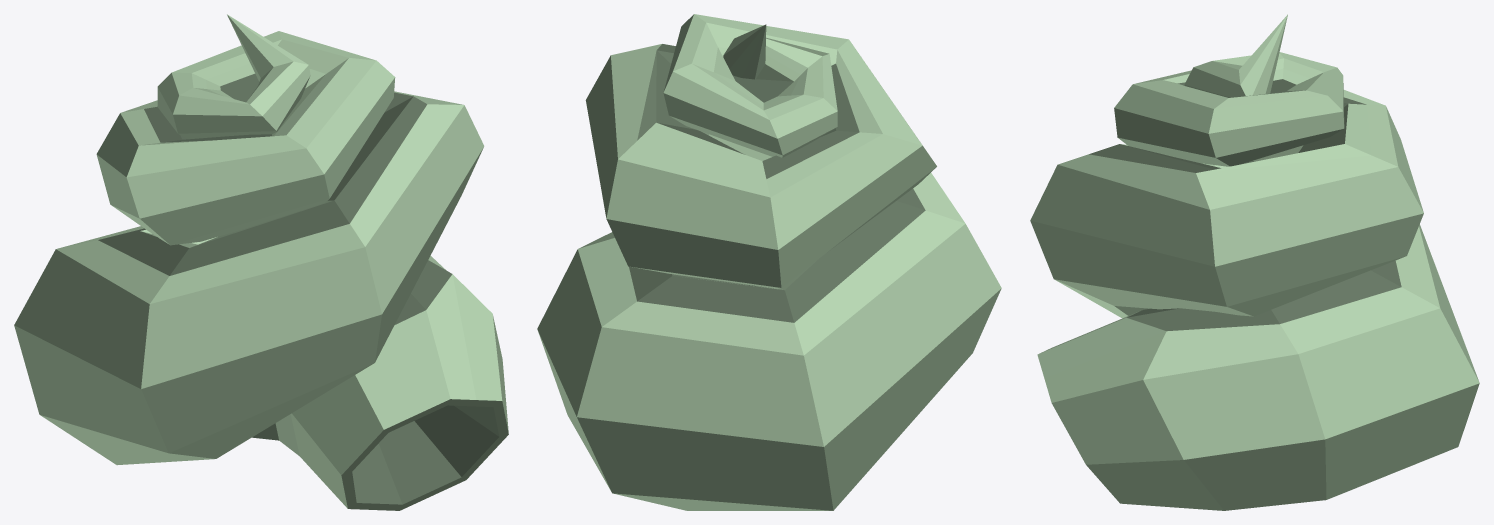
File: Hermit.glb
The picture shows the model from 3 angles, left to right: view 1: azimuth 30°, elevation 25°; view 2: azimuth 150°, elevation 25°; view 3: azimuth 270°, elevation 25°; orthographic projection. The views are drawn at different scales.
Visible parts, largest first — view 1: Hermit; view 2: Hermit; view 3: Hermit.
Boxes of the visible parts, x1,y1,x2,y2 form: Hermit: [14, 14, 508, 510]; Hermit: [537, 14, 1001, 510]; Hermit: [1030, 14, 1479, 510].
Bounding box in the file's own units: 0.1667 × 0.1919 × 0.1778.
